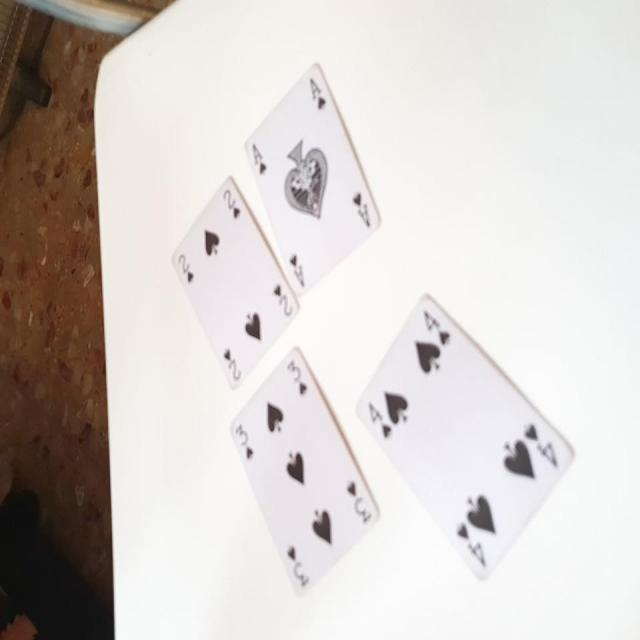3 Diamonds: (167, 183, 304, 395)
4 Diamonds: (228, 359, 378, 605)
5 Diamonds: (353, 293, 579, 586)
A Spades: (245, 70, 382, 299)
